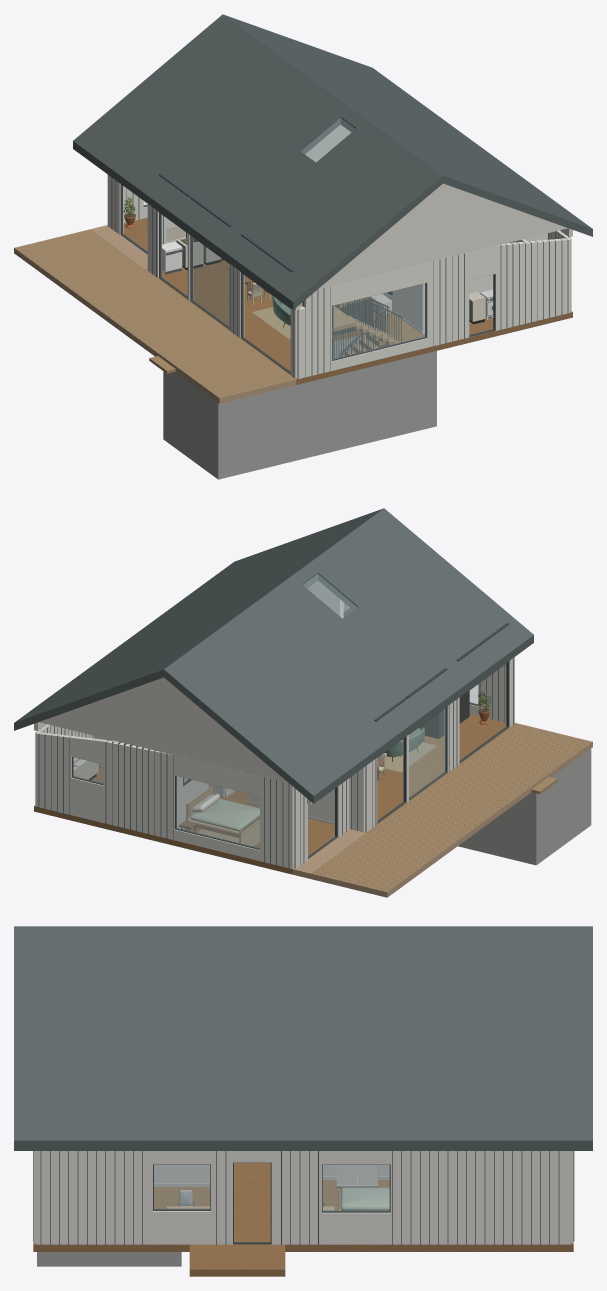
3 renders of one model, top to bottom at view 1: azimuth 30°, elevation 25°; view 2: azimuth 150°, elevation 25°; view 3: azimuth 270°, elevation 25°, orthographic. The views are drawn at different scales.
Visible parts, largest first — view 1: Pitched roof 0, Basement retaining 2, Pitched roof 4, Pitched roof 2, ground/left/pier-0, Gable infill.001, Pitched roof 1, ground/left/glass-1, Gable infill, Basement retaining 0, Pitched roof 3, ground/left/pier-1 (+18 smaller); view 2: Pitched roof 0, Pitched roof 4, Pitched roof 2, ground/right/pier-1, Gable infill.003, Pitched roof 1, ground/right/glass-1, Gable infill.002, ground compact slab 1, Basement retaining 0, Pitched roof 3, ground/right/end (+26 smaller); view 3: Pitched roof 4, ground/front/end, ground/front/pier-0, ground compact slab 1, ground/front/pier-2, front-porch, ground/front/glass-2, ground/front/glass-0, ground/front/sill-2, ground/front/pier-1, ground/front/sill-0, Basement floor (+7 smaller).
Boxes of the visible parts, x1,y1,x2,y2 form: Pitched roof 0: (73,57,392,309); Basement retaining 2: (224,352,430,471); Pitched roof 4: (223,14,592,236); Pitched roof 2: (172,23,340,153); ground/left/pier-0: (495,238,570,330); Gable infill.001: (435,183,567,260); Pitched roof 1: (316,128,432,225); ground/left/glass-1: (332,283,425,359); Gable infill: (318,190,435,289); Basement retaining 0: (163,371,224,472); Pitched roof 3: (213,14,442,191); ground/left/pier-1: (427,252,469,347); Pitched roof 0: (214,551,533,803); Pitched roof 4: (14,508,383,730); Pitched roof 2: (174,584,342,719); ground/right/pier-1: (104,740,174,840); Gable infill.003: (39,677,171,754); Pitched roof 1: (318,517,434,610); ground/right/glass-1: (176,776,259,848); Gable infill.002: (171,684,288,782); ground compact slab 1: (34,736,462,874); Basement retaining 0: (530,750,591,858); Pitched roof 3: (164,508,393,685); ground/right/end: (260,776,293,869); Pitched roof 4: (14,926,592,1150); ground/front/end: (390,1151,570,1244); ground/front/pier-0: (36,1151,152,1244); ground compact slab 1: (125,1163,573,1251); ground/front/pier-2: (271,1151,321,1244); front-porch: (189,1244,285,1276); ground/front/glass-2: (323,1165,389,1210); ground/front/glass-0: (154,1165,209,1209); ground/front/sill-2: (322,1212,390,1244); ground/front/pier-1: (211,1151,232,1244); ground/front/sill-0: (153,1211,210,1244); Basement floor: (37,1258,181,1266).
Size of the model in its own units: 15.77 by 9.7 by 15.02.
145 materials, 18 textured.
